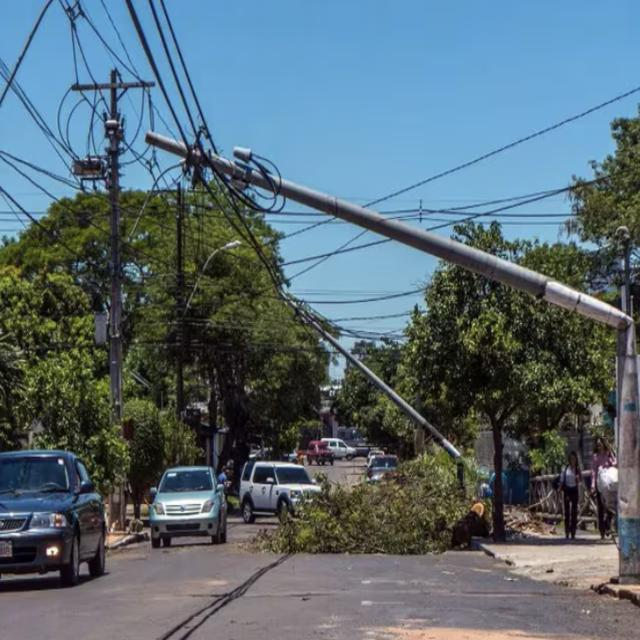Inclined Pole: (145, 122, 640, 581)
